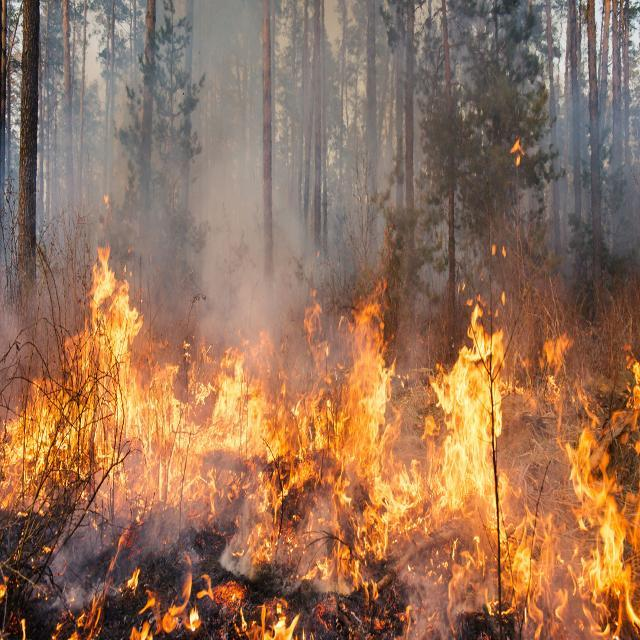Fire: (6, 368, 422, 580), (546, 335, 640, 640), (431, 305, 512, 553), (130, 588, 304, 640), (76, 258, 142, 364), (341, 282, 394, 364)
Smoke: (162, 7, 321, 294)
